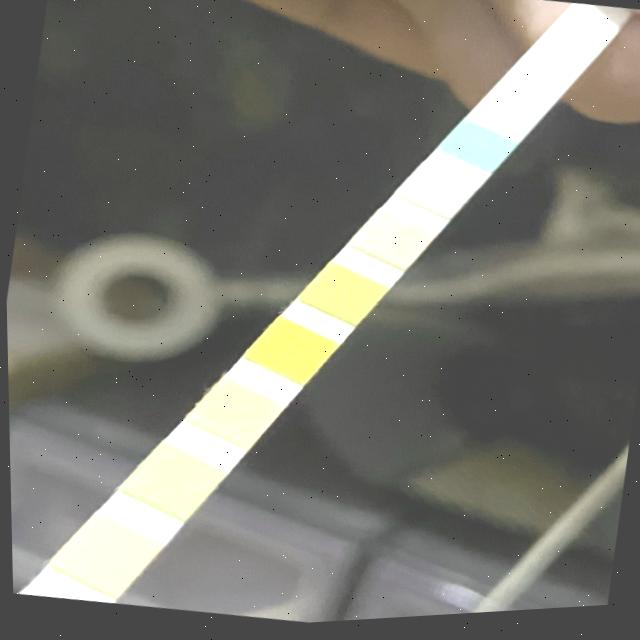Bilirubin: (406, 176, 467, 212)
Blood: (258, 333, 327, 372)
Glucose: (450, 133, 505, 168)
Ketone: (361, 226, 422, 262)
Protein: (137, 458, 209, 501)
SpGravity: (315, 278, 376, 316)
Urobilinogen: (66, 530, 144, 581)
pH: (202, 395, 270, 435)
